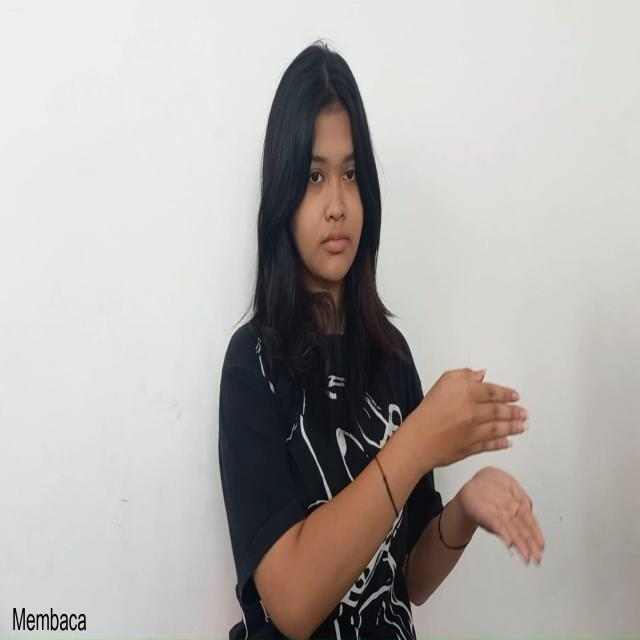Membaca -BISINDO-: (418, 367, 546, 569)
